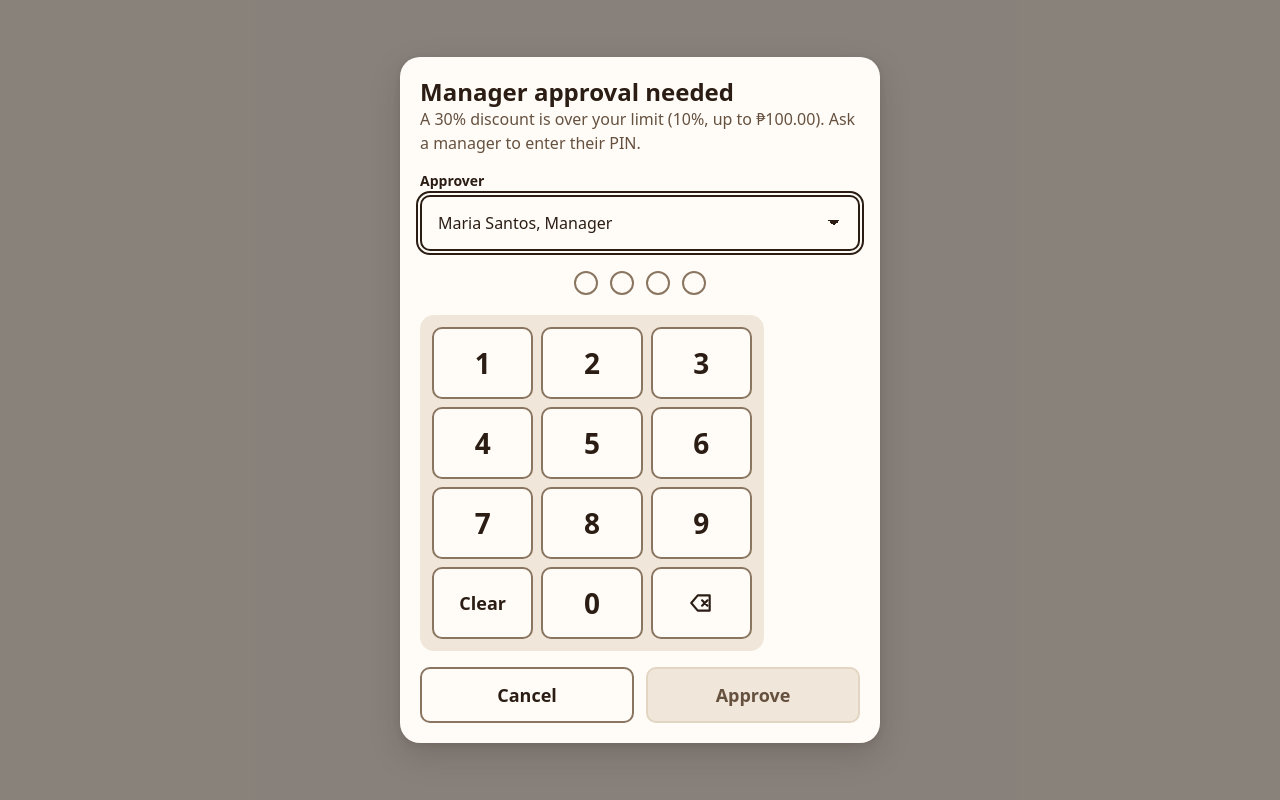
Scenario: PinPrompt › clears the dots and shows the message after a wrong PIN
Click the button "1": (483, 363) 432,327 -> 533,399
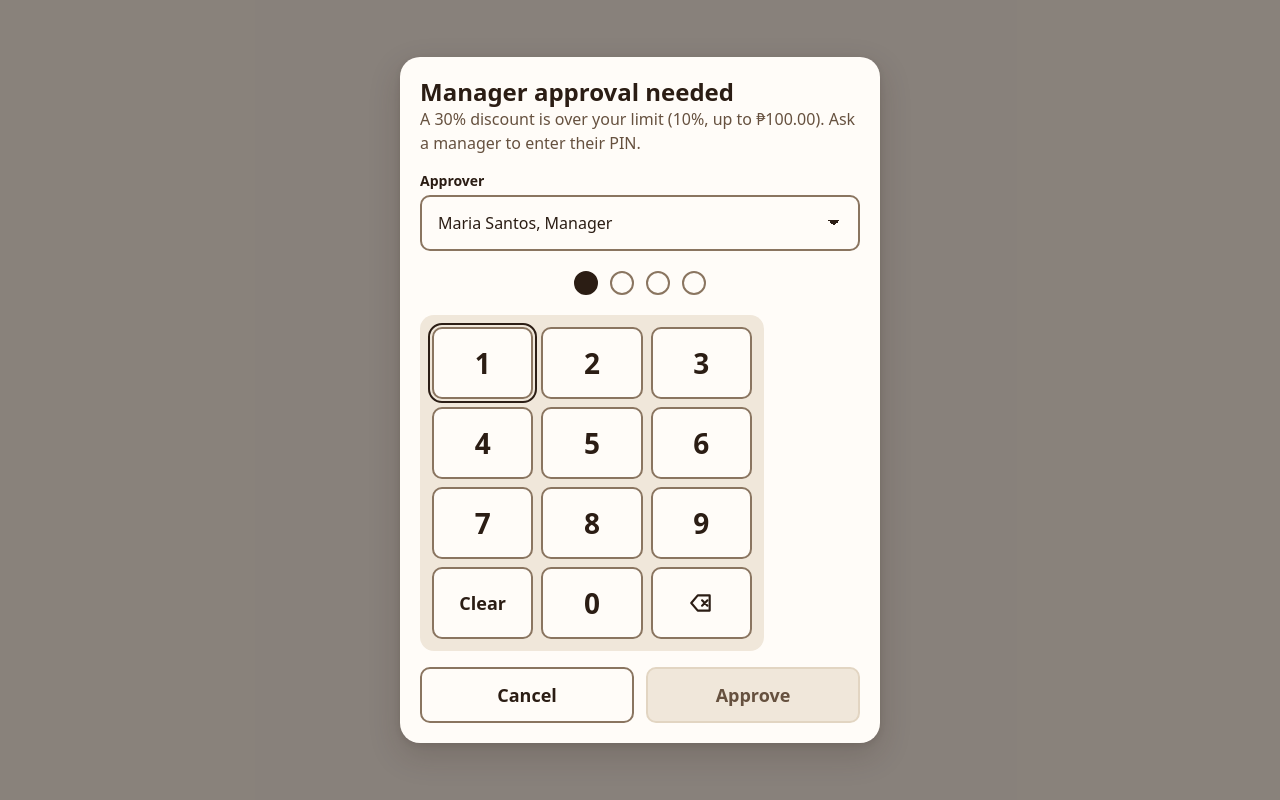
Click the button "1": (483, 363) 432,327 -> 533,399
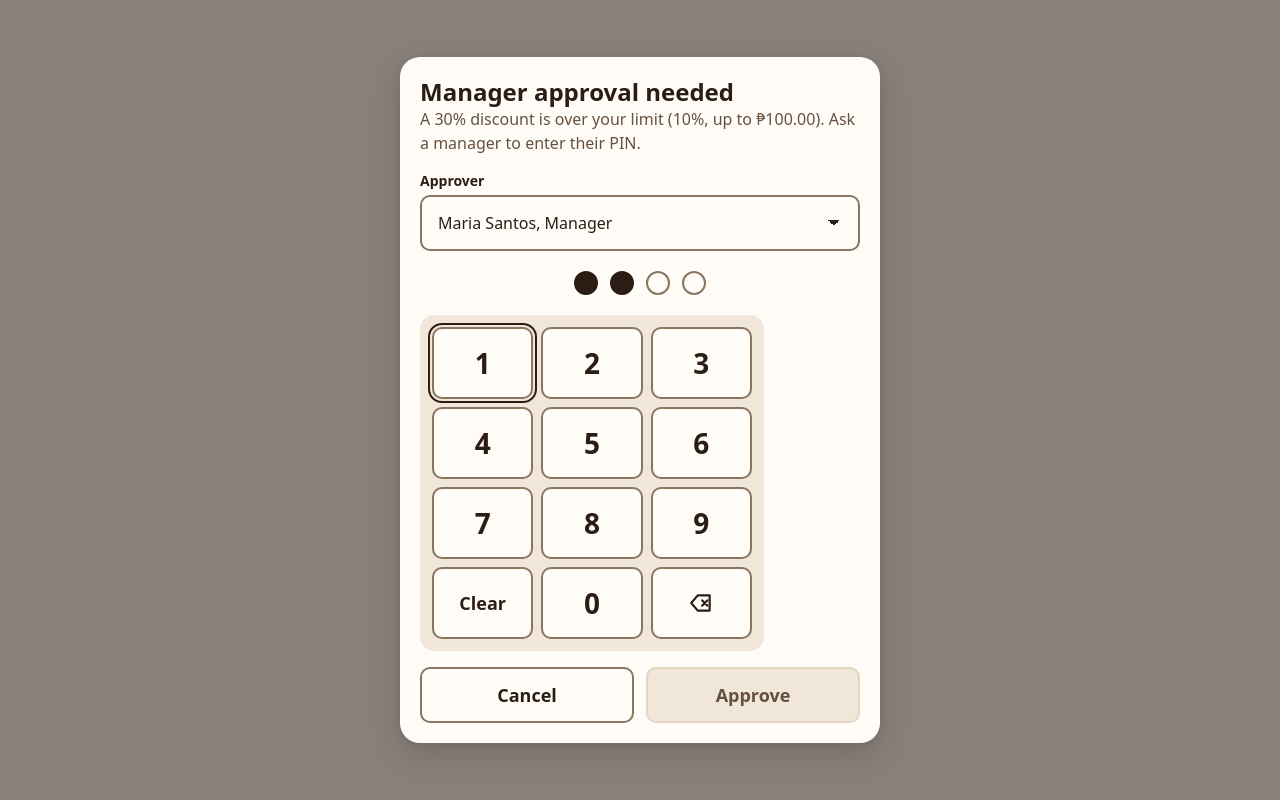
Click the button "1": (483, 363) 432,327 -> 533,399
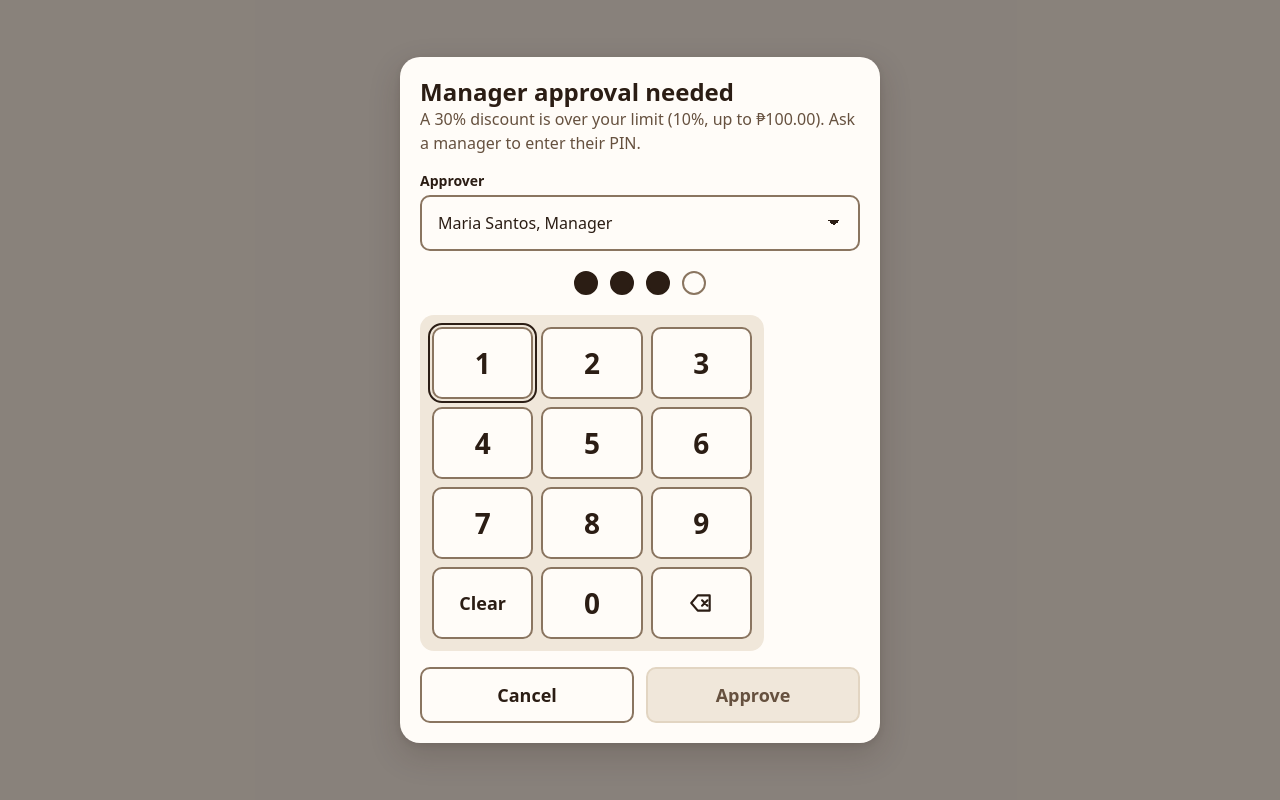
Click the button "1": (483, 363) 432,327 -> 533,399
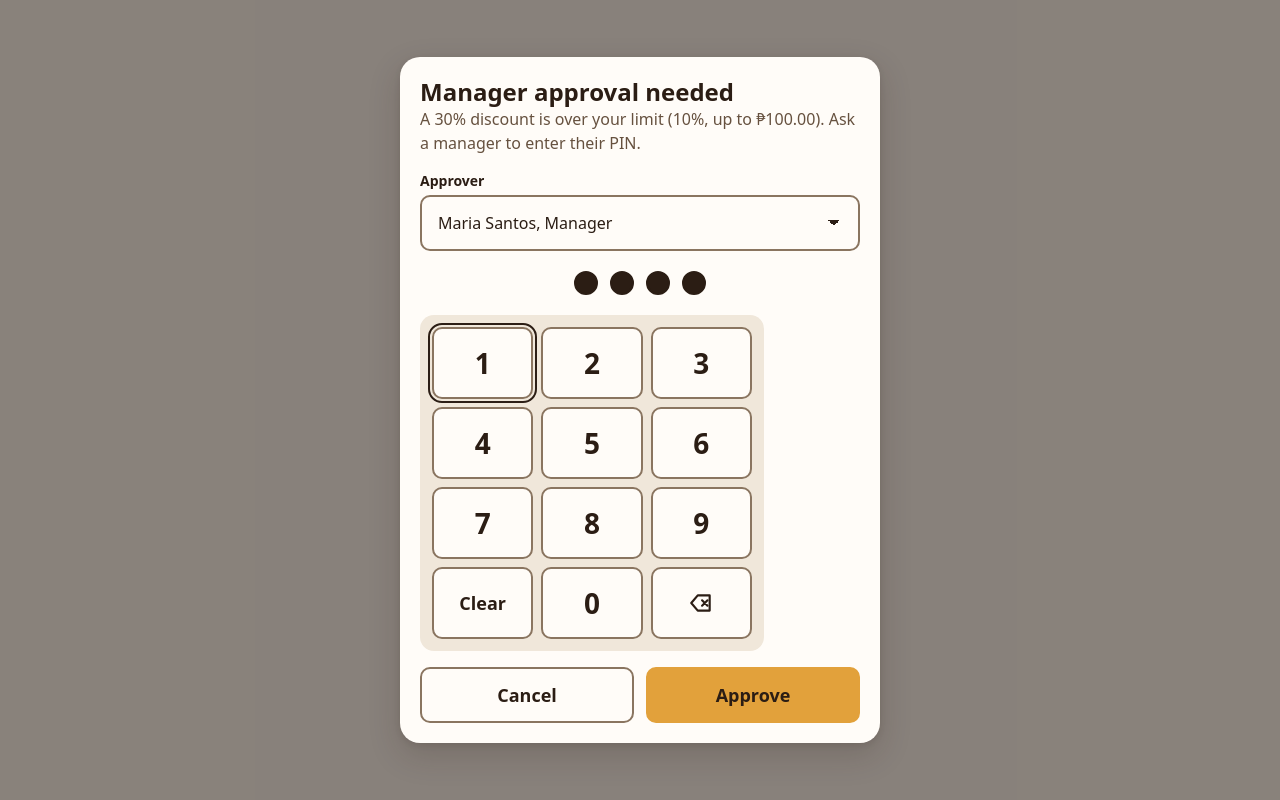
Click the button "Approve": (753, 695) 646,667 -> 860,723
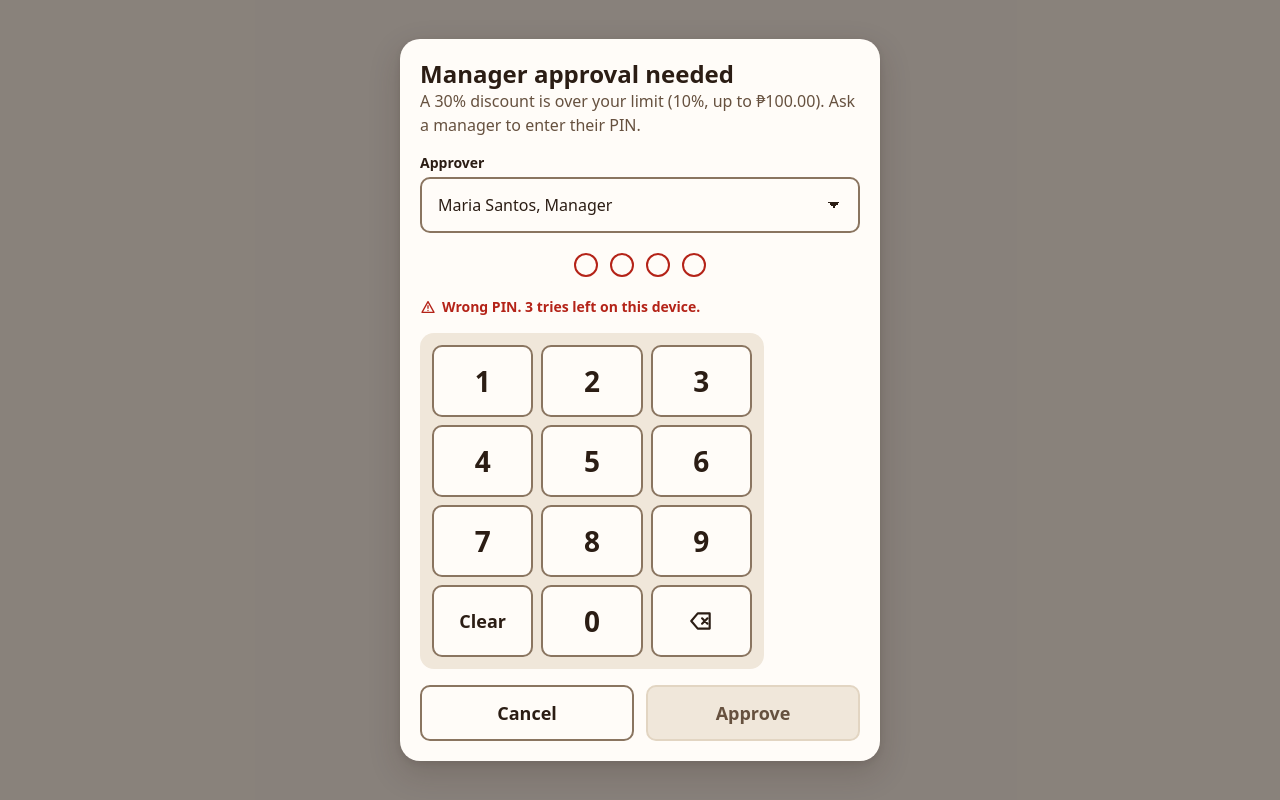
Check: the message reads "Wrong PIN. 3 tries left on this device.", box 442,297 -> 700,316
Check: the button "Approve" is disabled, box 646,685 -> 860,741
Click the button "2": (592, 381) 541,345 -> 643,417
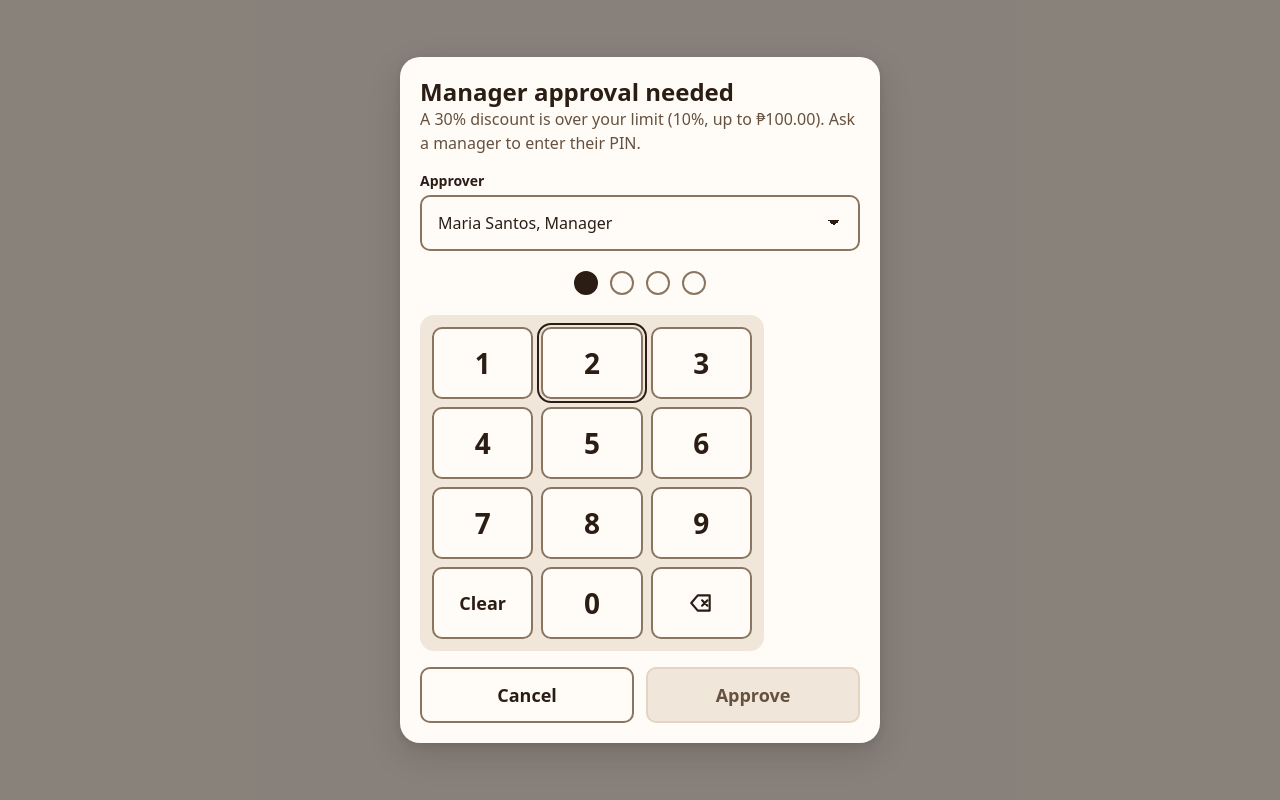
Check: the message "Wrong PIN. 3 tries left on this device." is gone
